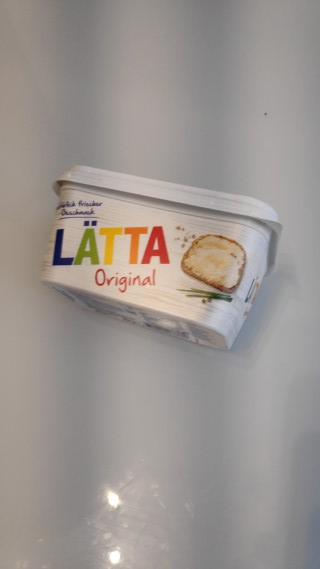laetta: (39, 164, 283, 350)
